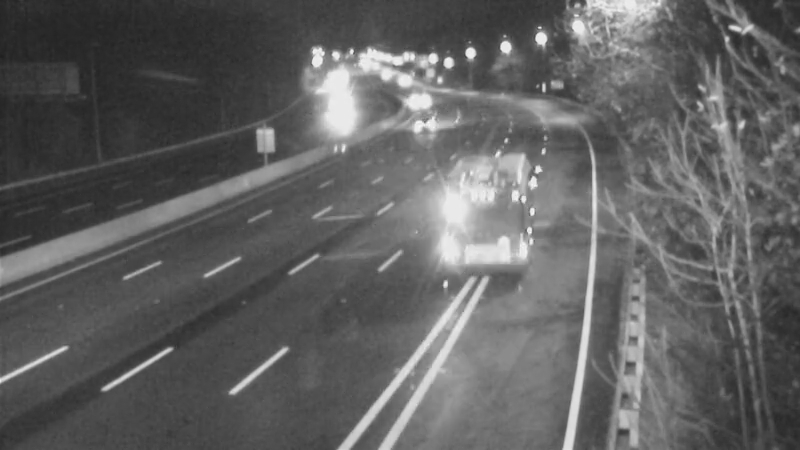vehicle: (443, 135, 523, 215), (377, 56, 427, 106), (391, 79, 441, 129), (399, 102, 449, 152), (313, 86, 363, 136)
